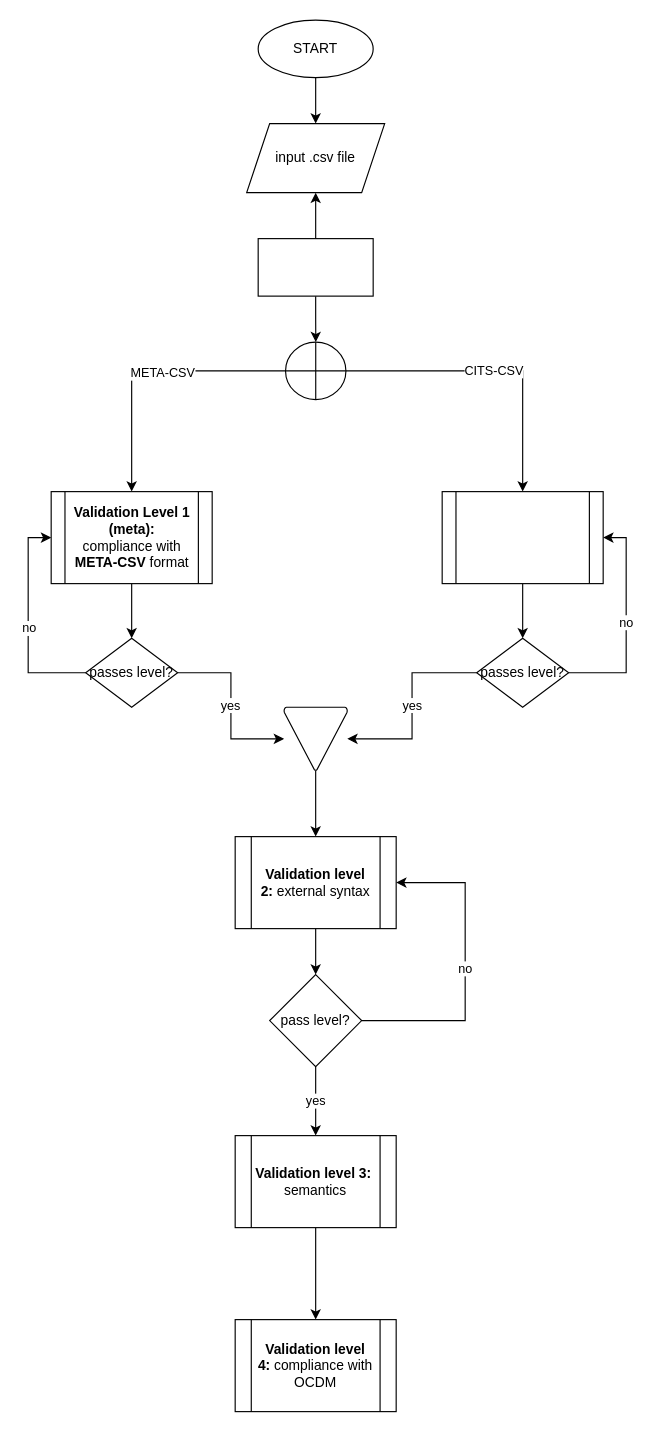
Image size: 656x1432. Some labels were removed from this diagram. The box of each missing label's shape, as (x1, y1, x2, y2) in pixels:
Determine data format: (257, 237, 373, 296)
merge processes: (283, 706, 347, 770)
Validation Level 1 (citations): compliance with CITS-CSV format: (441, 490, 603, 584)
Which OC table format?: (284, 341, 346, 400)
